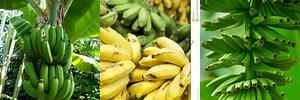banana: (102, 27, 190, 100), (24, 21, 76, 98)
